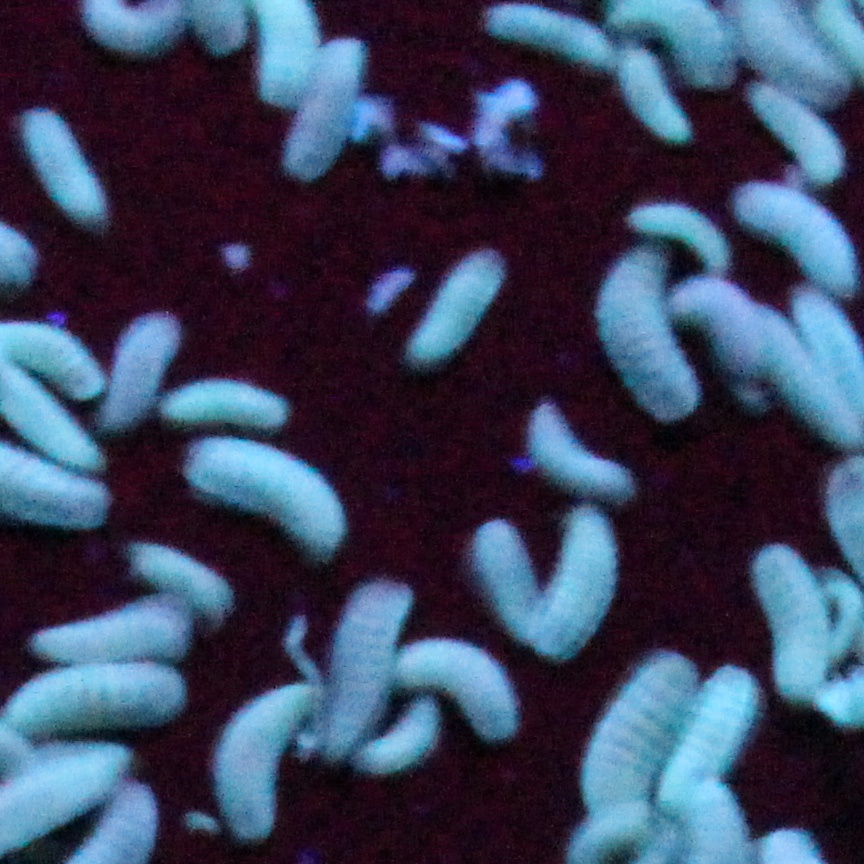larve: (180, 422, 365, 568), (587, 236, 709, 418), (574, 648, 685, 828), (653, 652, 767, 824), (4, 655, 193, 755), (208, 670, 311, 850), (741, 530, 841, 705), (270, 35, 379, 186), (399, 236, 519, 373), (8, 99, 122, 236), (394, 630, 519, 753), (523, 499, 616, 658), (519, 396, 645, 513), (17, 586, 197, 665), (324, 576, 398, 768), (748, 75, 859, 186), (93, 315, 182, 442), (123, 527, 240, 621), (622, 195, 737, 282), (469, 525, 552, 641), (615, 40, 698, 149), (157, 375, 297, 437), (355, 683, 445, 776), (1, 321, 104, 392)
